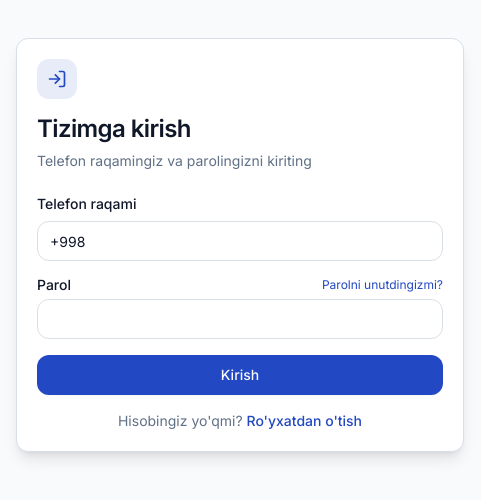
Test: Authentication Forms & Role-Based Routing › validates phone format and required password on LoginPage
Replace the text in the field labelled "Telefon raqami" with "+99812": (240, 241) [37,221,443,261]
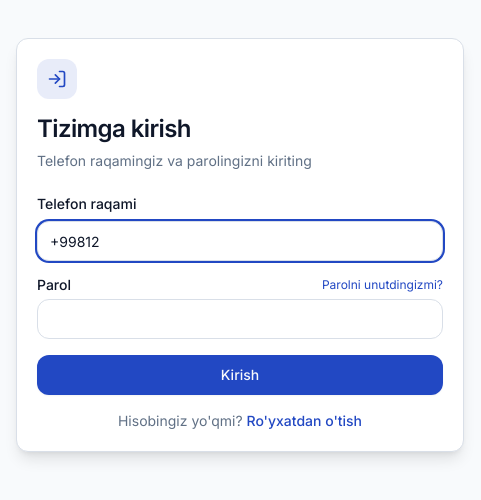
Click the button "Kirish": (240, 375) [37,355,443,395]
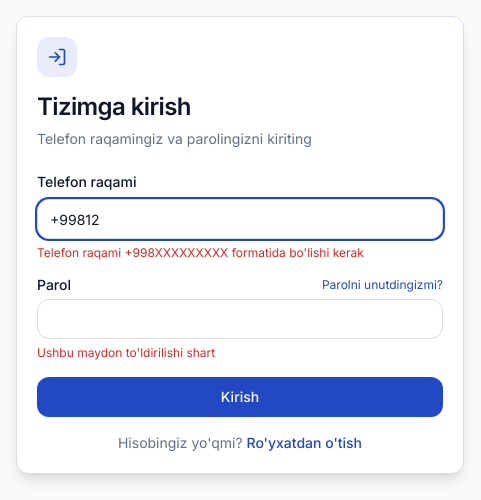
Expected: the text "Telefon raqami +998XXXXXXXXX formatida bo'lishi kerak" is shown, [37,245,364,260]
Expected: the text "Ushbu maydon to'ldirilishi shart" is shown, [37,345,215,360]
